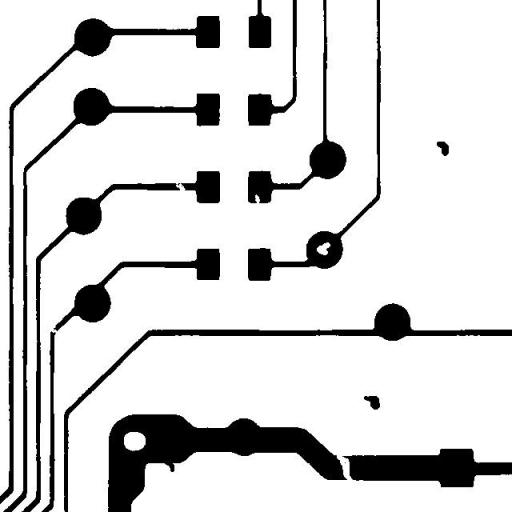copper: (356, 388, 387, 417), (429, 134, 456, 163)
mousebite: (247, 186, 267, 212)
open: (329, 448, 361, 490), (168, 173, 193, 198), (42, 316, 64, 340)
pin-hole: (308, 234, 338, 262)
spur: (156, 453, 182, 479)
